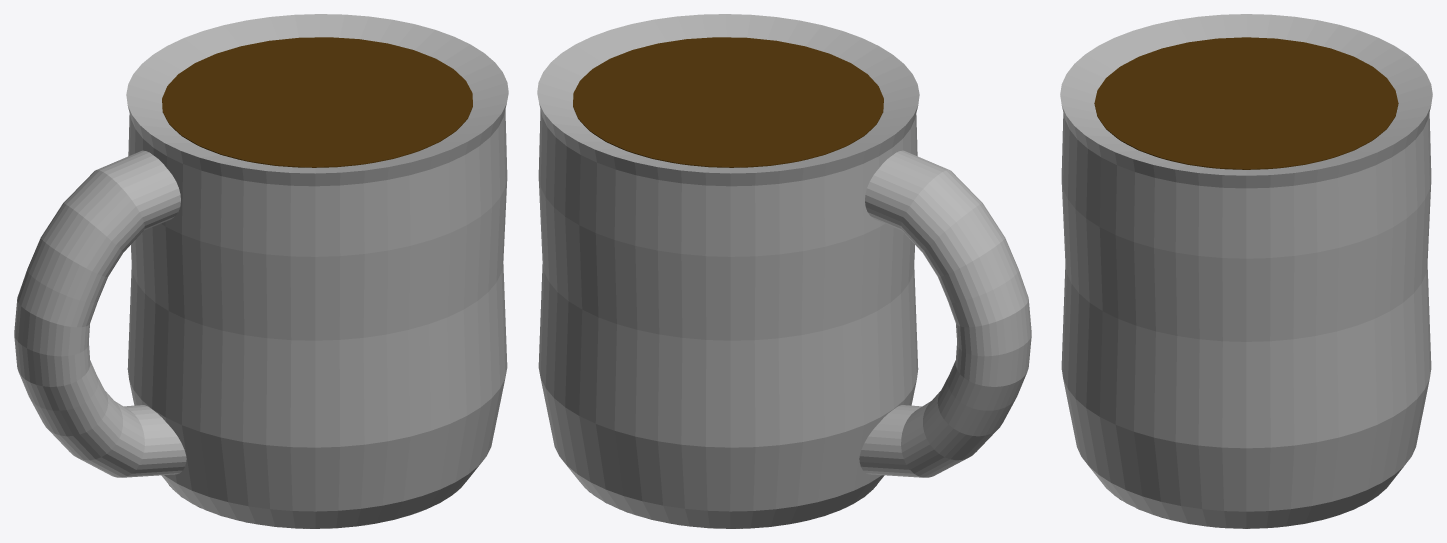
The model's file is Coffee.fbx.
3 views of the same model, side by side, from view 1: azimuth 30°, elevation 25°; view 2: azimuth 150°, elevation 25°; view 3: azimuth 270°, elevation 25° (orthographic).
Visible parts, largest first — view 1: Torus, Cylinder.002, Cylinder.001; view 2: Torus, Cylinder.002, Cylinder.001; view 3: Torus, Cylinder.002.
Boxes of the visible parts, x1,y1,x2,y2 form: Torus: (126, 14, 508, 528); Cylinder.002: (162, 37, 472, 167); Cylinder.001: (14, 150, 186, 477); Torus: (537, 14, 919, 528); Cylinder.002: (573, 37, 883, 167); Cylinder.001: (859, 150, 1031, 477); Torus: (1060, 14, 1432, 528); Cylinder.002: (1094, 37, 1398, 169).
Bounding box in the file's own units: 267 × 204 × 187.
